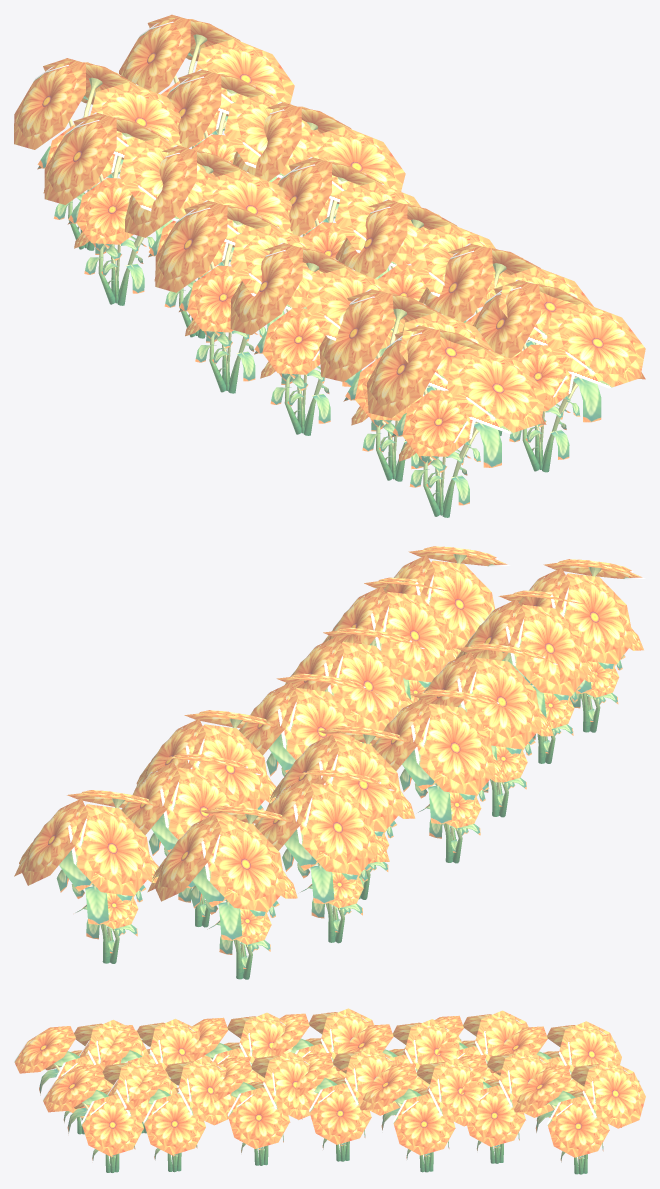
File: Floresitas-transformed.glb
3 renders of one model, top to bottom at view 1: azimuth 30°, elevation 25°; view 2: azimuth 150°, elevation 25°; view 3: azimuth 270°, elevation 25°, orthographic. The views are drawn at different scales.
Parts seen in each view (by area): view 1: FlowerA_02; view 2: FlowerA_02; view 3: FlowerA_02.
Boxes of the visible parts, bbox=[...] form: FlowerA_02: bbox=[14, 14, 645, 517]; FlowerA_02: bbox=[14, 546, 645, 979]; FlowerA_02: bbox=[14, 1008, 645, 1174].
Size of the model in its own units: 1.13 by 0.62 by 3.1.
Materials: 1 (1 with a texture image).
